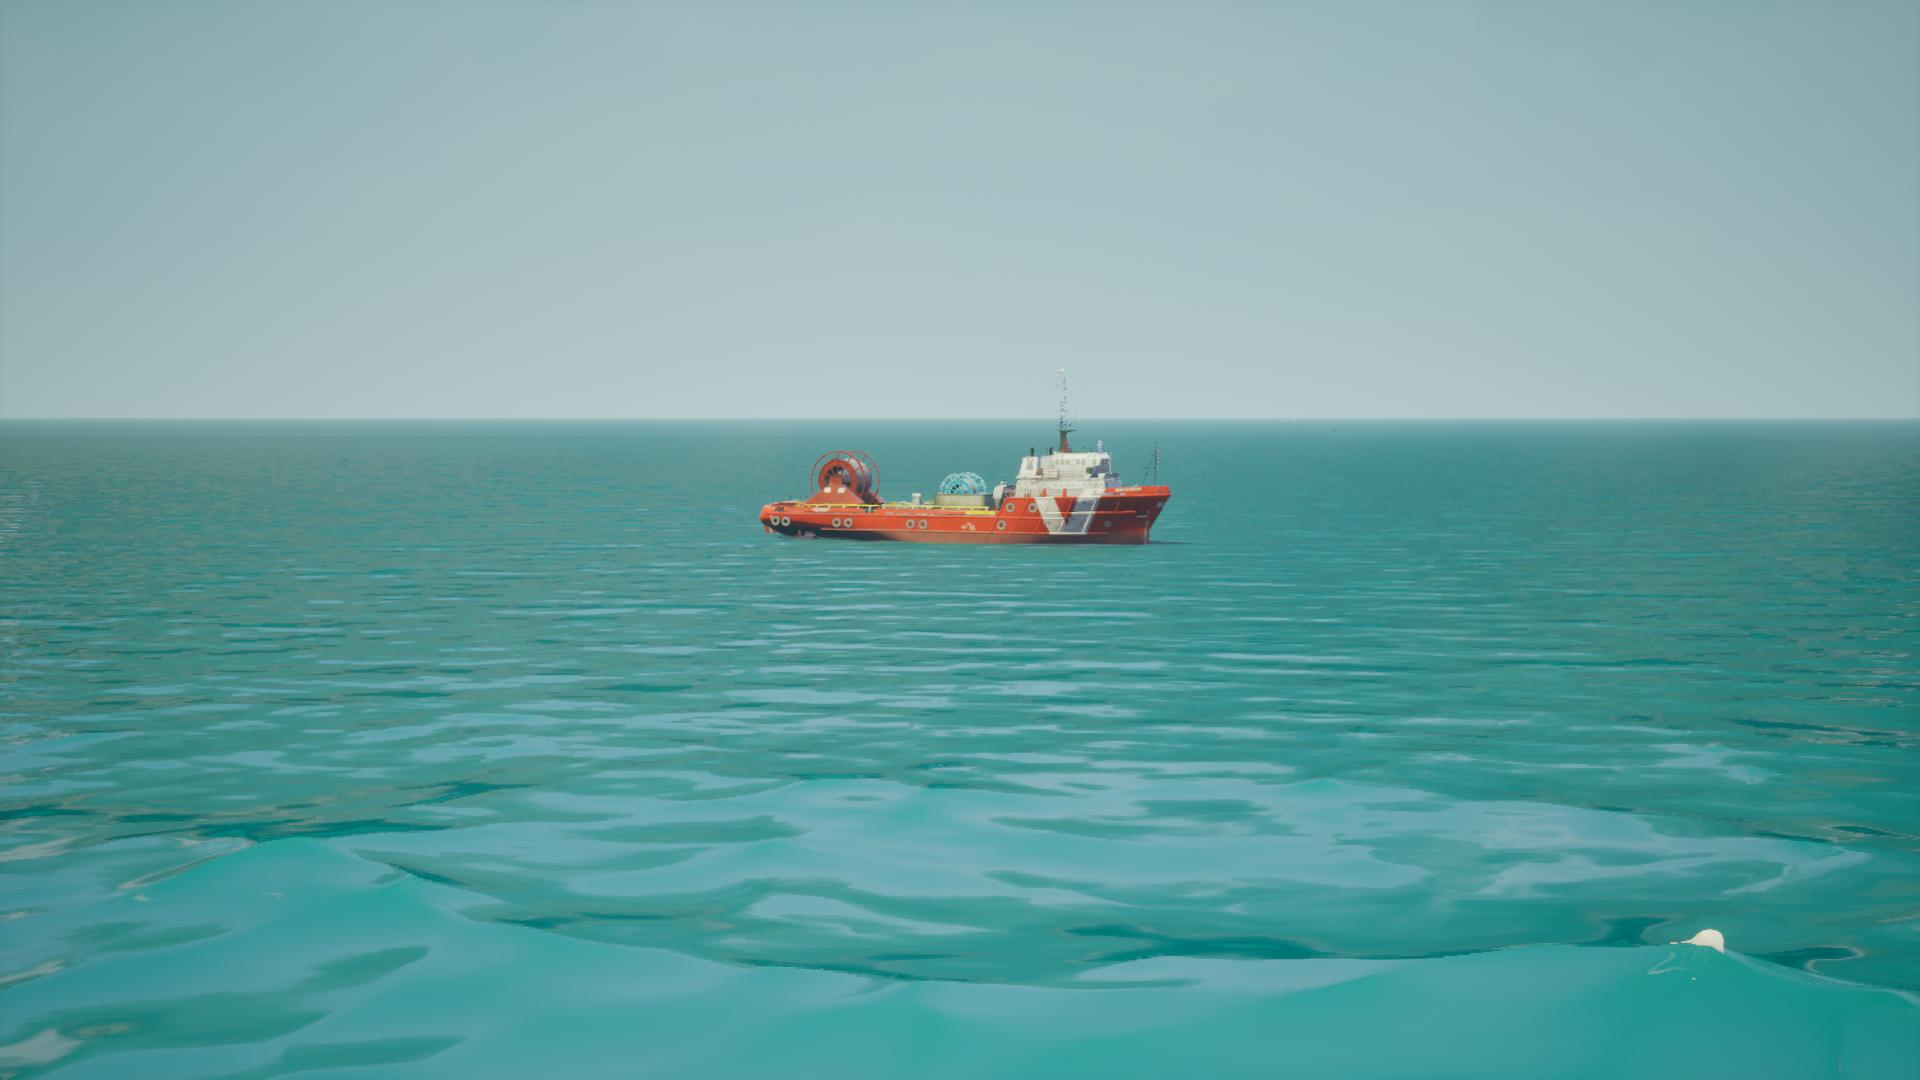Tug Boat: (764, 372, 1171, 547)
